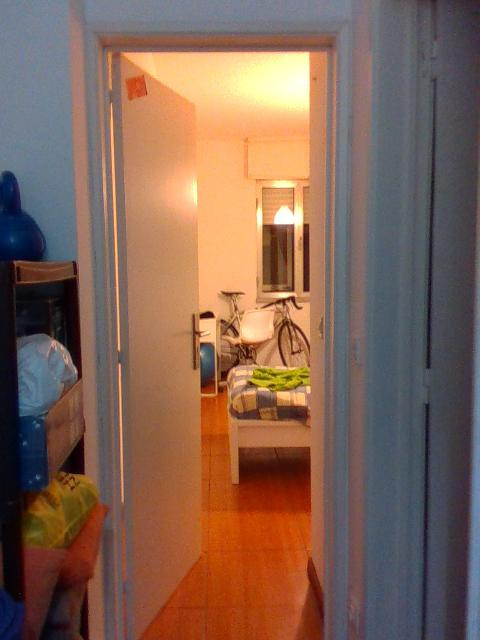open_door: (97, 18, 359, 639)
